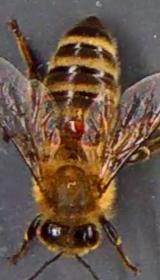varroa_mite: (59, 114, 87, 142)
